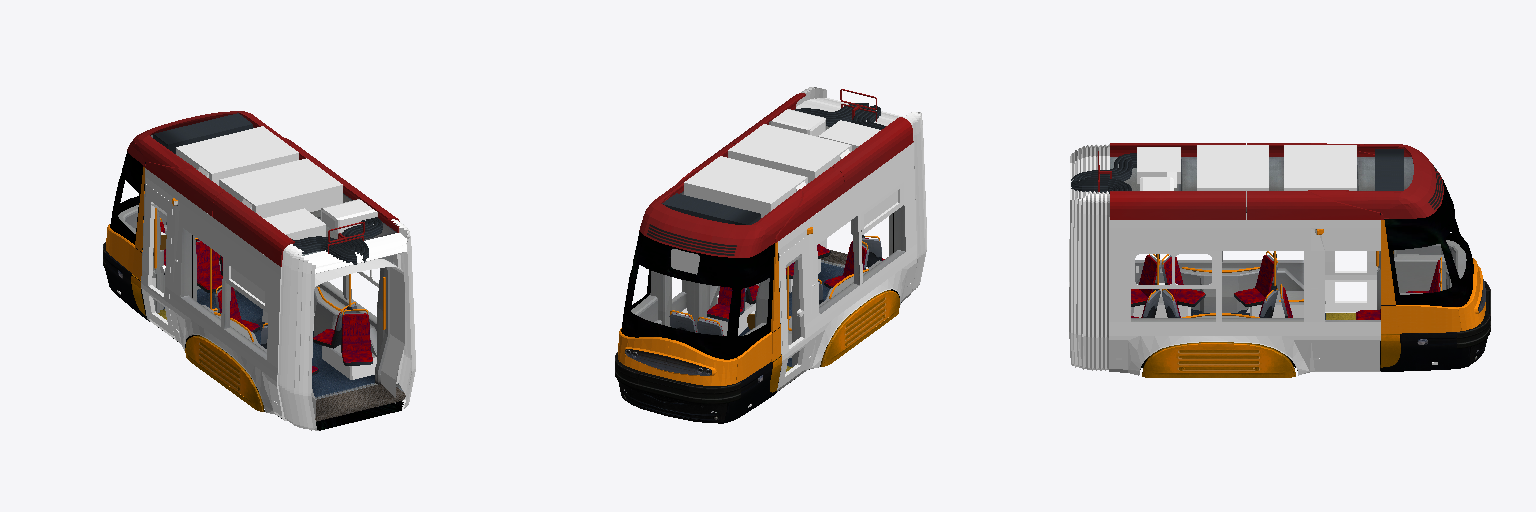
The picture shows the model from 3 angles: view 1: azimuth 30°, elevation 25°; view 2: azimuth 150°, elevation 25°; view 3: azimuth 270°, elevation 25°; orthographic projection.
Parts seen in each view (by area): view 1: EXT, INT, D_RL; view 2: EXT, INT, D_RL; view 3: EXT, INT, DL_RL.
Part boxes in pixels (left/top/right/bottom): EXT: left=103, top=111, right=415, bottom=430; INT: left=118, top=204, right=405, bottom=421; D_RL: left=142, top=184, right=174, bottom=336; EXT: left=615, top=87, right=926, bottom=423; INT: left=631, top=205, right=905, bottom=371; D_RL: left=778, top=237, right=809, bottom=388; EXT: left=1069, top=143, right=1490, bottom=377; INT: left=1131, top=240, right=1466, bottom=358; DL_RL: left=1325, top=251, right=1377, bottom=311.
Size of the model in its own units: 2.66 by 3.68 by 7.25.
Materials: 61 (31 with a texture image).